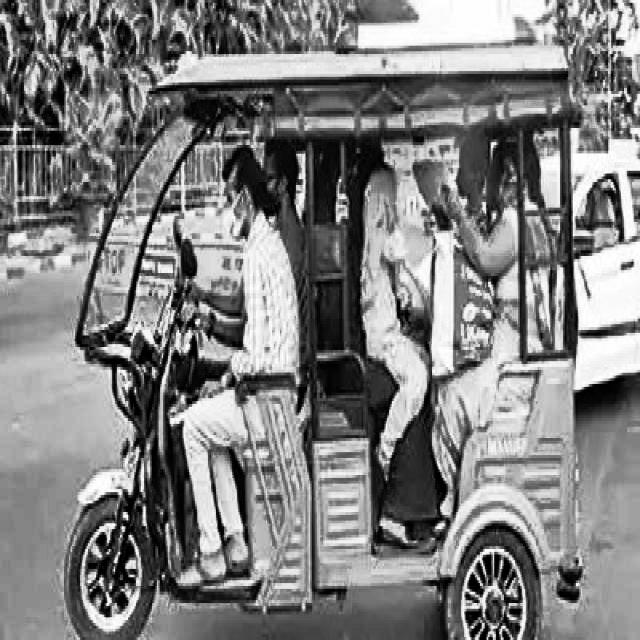Toto: (66, 49, 594, 640)
